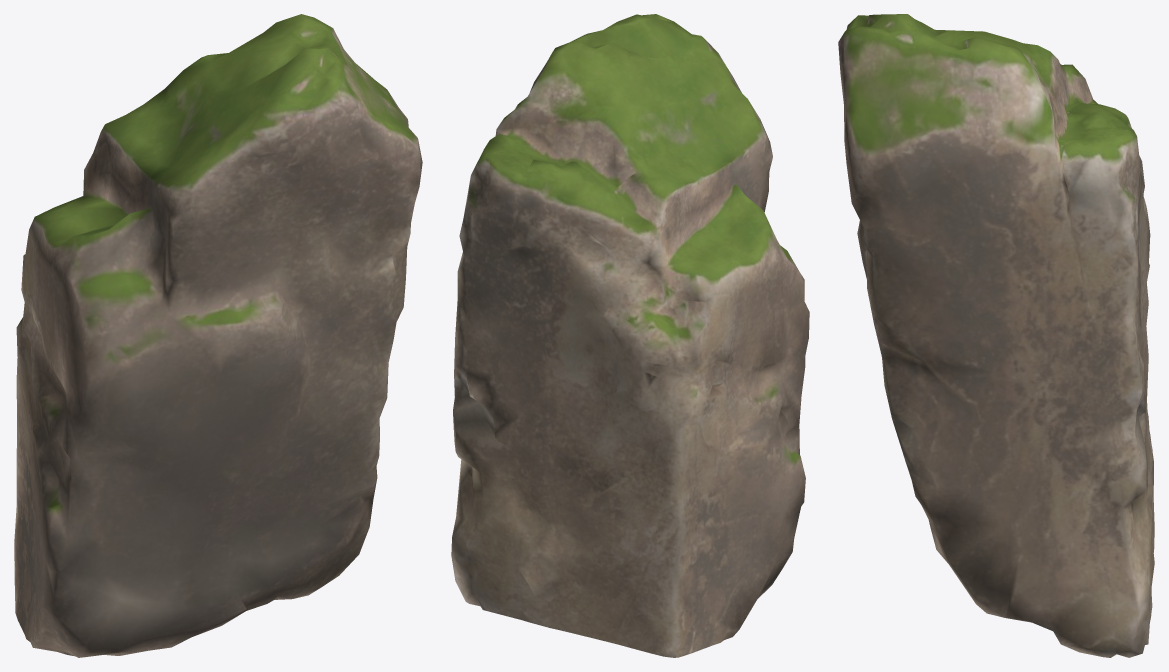
The model's file is fels-2.glb.
3 renders of one model, left to right at view 1: azimuth 30°, elevation 25°; view 2: azimuth 150°, elevation 25°; view 3: azimuth 270°, elevation 25°, orthographic. The views are drawn at different scales.
Parts seen in each view (by area): view 1: fels-2; view 2: fels-2; view 3: fels-2.
Part boxes in pixels (bbox=[...]): fels-2: bbox=[14, 14, 422, 657]; fels-2: bbox=[451, 14, 809, 657]; fels-2: bbox=[838, 14, 1154, 657].
Size of the model in its own units: 1.31 by 2.35 by 1.12.
1 material, 1 textured.
